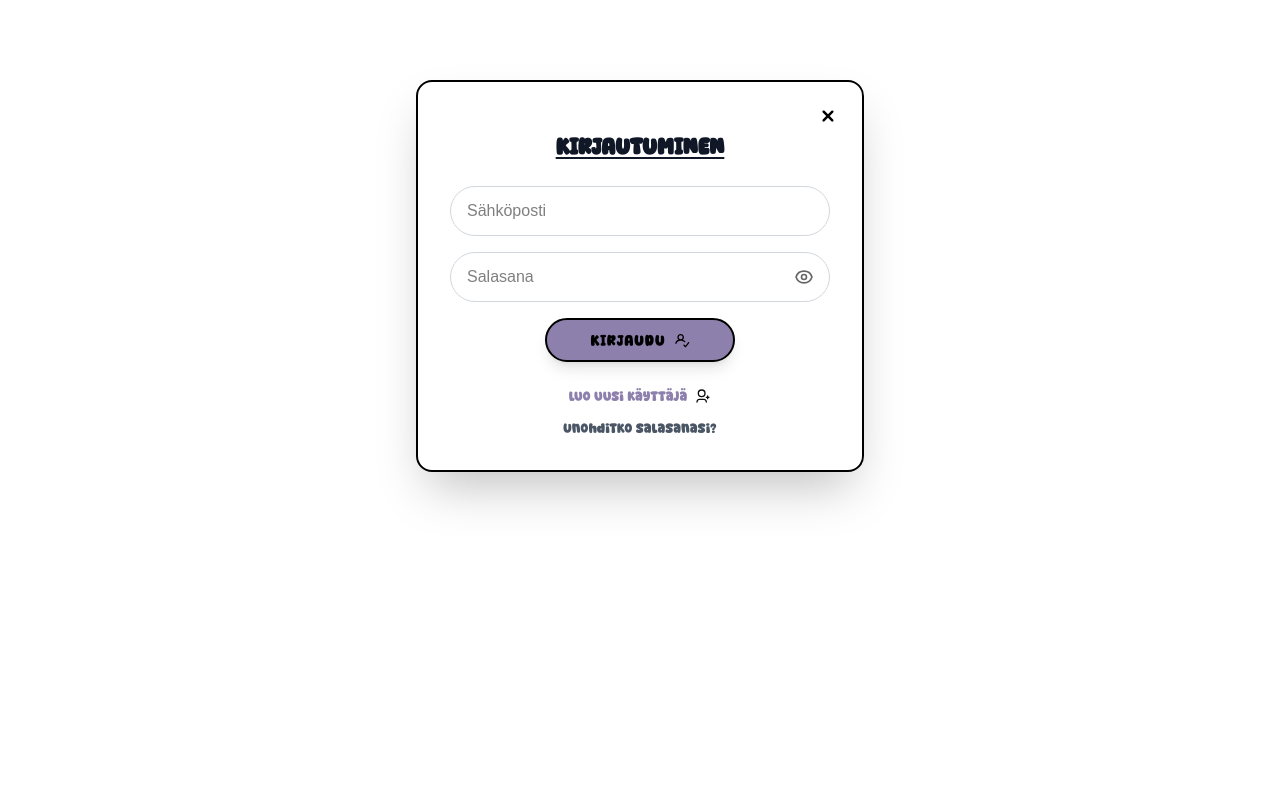
it: AuthModal › switches to forgot password view when 'Unohditko salasanasi?' is clicked
Click the button "Unohditko salasanasi?". click: click(640, 428)
box: [563, 418, 717, 438]
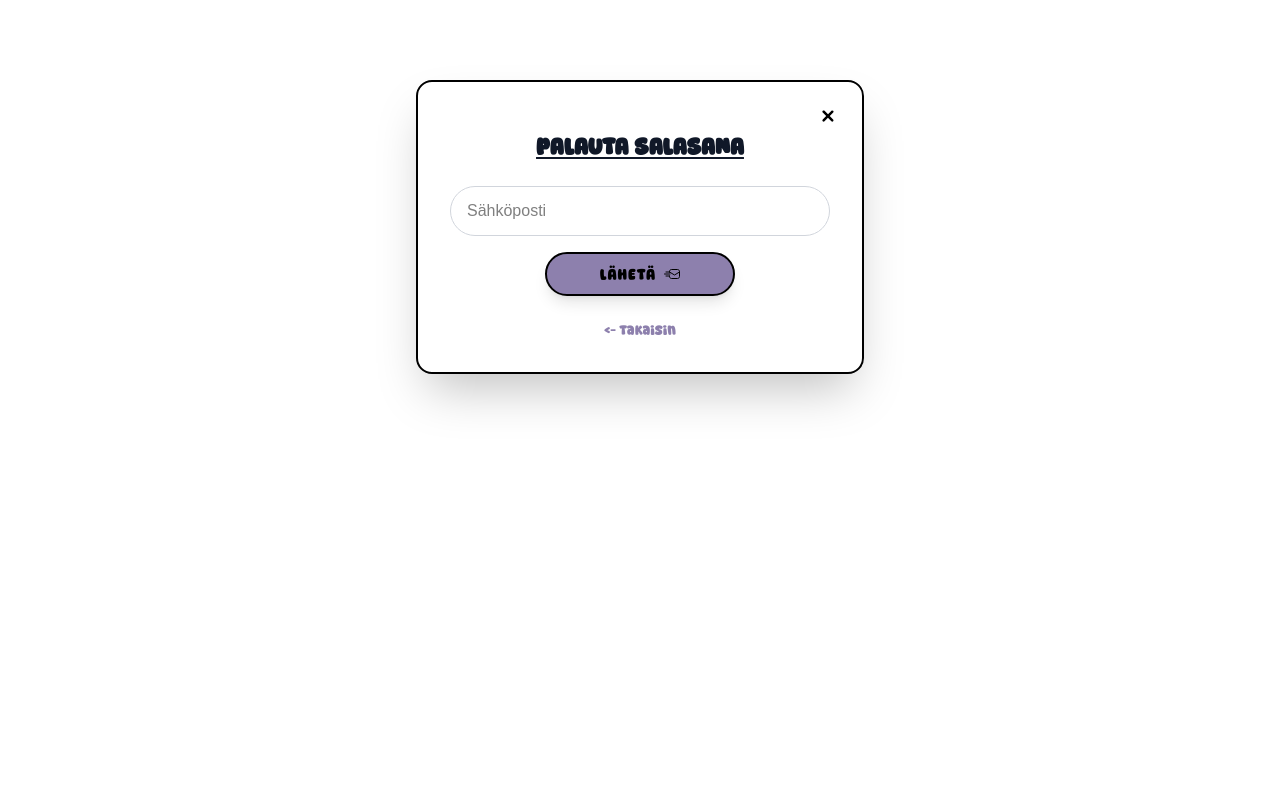
Result: the heading "PALAUTA SALASANA" is shown at [536, 130, 744, 161]
